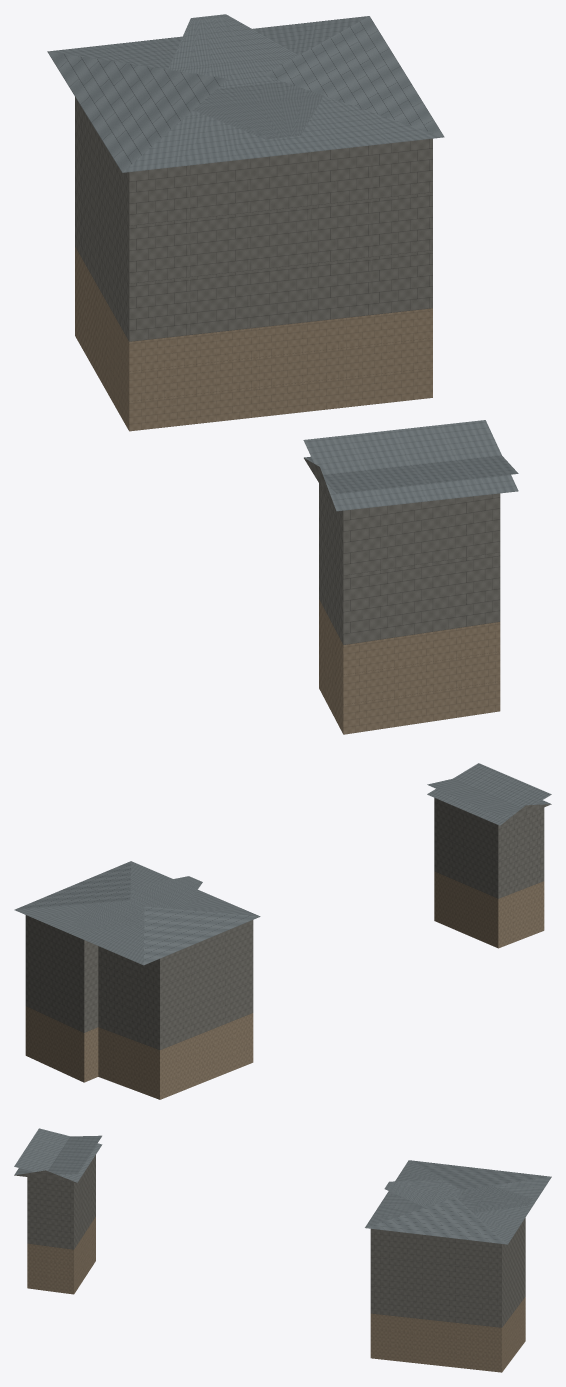
Rendered from bld_c3_18_463.gltf.
The picture shows the model from 3 angles, top to bottom: view 1: azimuth 30°, elevation 25°; view 2: azimuth 150°, elevation 25°; view 3: azimuth 270°, elevation 25°; orthographic projection. The views are drawn at different scales.
Visible parts, largest first — view 1: bld_c3_18_463; view 2: bld_c3_18_463; view 3: bld_c3_18_463.
Boxes of the visible parts, box(x1,y1,x2,y2) form: bld_c3_18_463: box(47, 14, 518, 734); bld_c3_18_463: box(14, 763, 551, 1099); bld_c3_18_463: box(14, 1128, 551, 1372).
Size of the model in its own units: 29.91 by 16 by 55.52.
4 materials, 4 textured.
